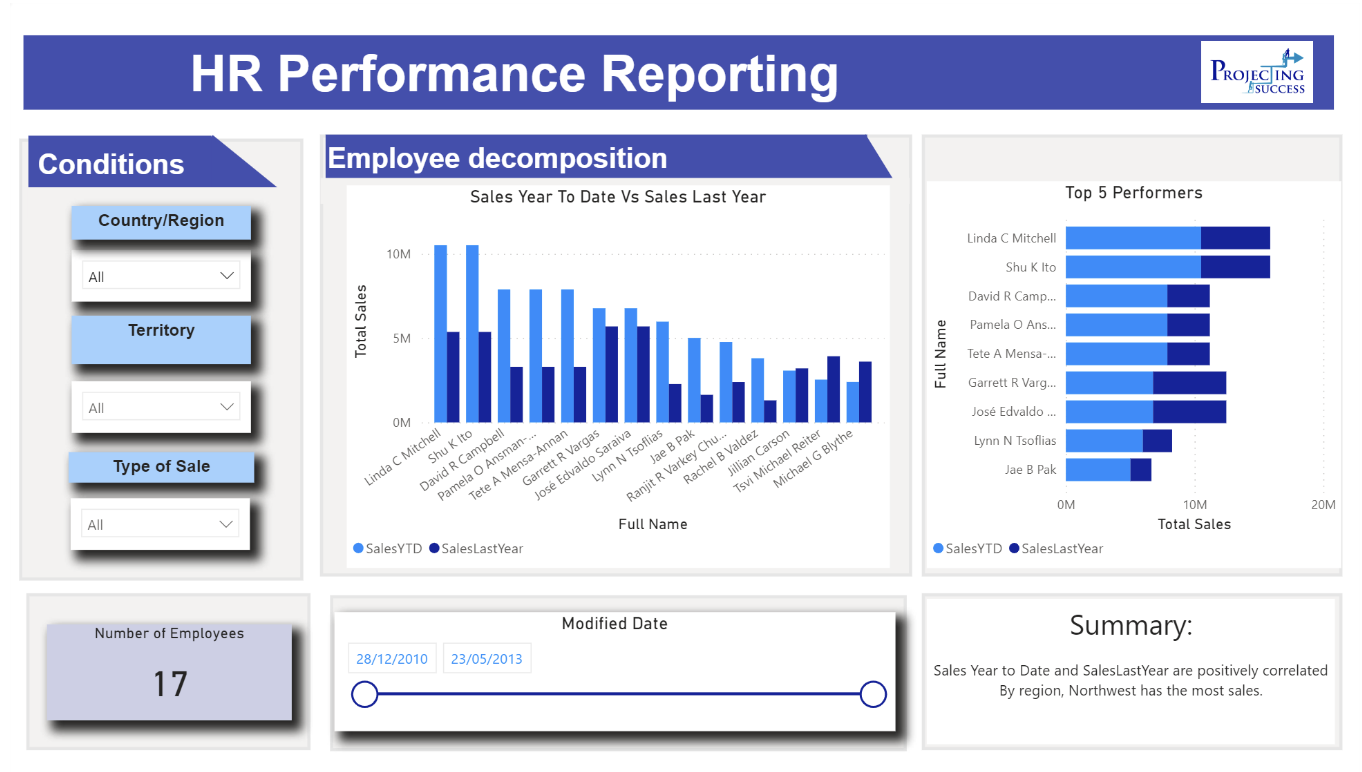

What the dashboard file says about the page in this screenshot:
{"tool":"powerbi","page":{"name":"Sales","canvas":[1280,720],"ordinal":2},"visuals":[{"type":"basicShape","box":[5.4,111.2,275.3,427.7],"z":0},{"type":"basicShape","box":[96,101.3,191.6,77.8],"z":1000},{"type":"basicShape","box":[15.3,112,177,56.4],"z":2000},{"type":"basicShape","box":[12.4,159.7,254.8,33.1],"z":3000},{"type":"slicer","fields":{"Values":["TopSalesPerformers.Country/Region"]},"box":[58.1,221,170.2,48.6],"z":4000},{"type":"basicShape","box":[0,16.9,1267.8,71.9],"z":5000},{"type":"basicShape","box":[287.6,107.4,572.6,427.9],"z":6000},{"type":"textbox","box":[58.1,179.1,170.2,32.1],"z":7000},{"type":"textbox","box":[58.1,283.2,170.2,45.7],"z":8000},{"type":"slicer","fields":{"Values":["TopSalesPerformers.Territory"]},"box":[58.1,345.5,170.2,48.6],"z":9000},{"type":"basicShape","box":[762.6,101.2,97.7,78.1],"z":10000},{"type":"basicShape","box":[293.9,111,523.8,47.9],"z":11000},{"type":"basicShape","box":[286.8,150.9,572.6,28.4],"z":12000},{"type":"textbox","box":[55.2,412.6,176,29.2],"z":13000},{"type":"textbox","box":[165.3,21.4,1084.5,70],"z":14000},{"type":"basicShape","box":[860.5,107.1,406.9,428.3],"z":15000},{"type":"basicShape","box":[297.4,546.9,557.5,150.9],"z":16000},{"type":"slicer","title":"Modified Date","fields":{"Values":["TopSalesPerformers.ModifiedDate"]},"box":[308.1,564.6,531.8,112.7],"z":17000},{"type":"textbox","box":[21.1,119.8,164.4,46.7],"z":18000},{"type":"image","box":[1115.6,17.5,133.3,69.1],"z":19000},{"type":"basicShape","box":[12.4,545.1,275.2,151.8],"z":20000},{"type":"textbox","box":[295.6,113.6,544.2,41.7],"z":21000},{"type":"clusteredColumnChart","title":"Sales Year To Date Vs Sales Last Year","fields":{"Category":["TopSalesPerformers.Merged"],"Y":["TopSalesPerformers.SalesYTD","TopSalesPerformers.SalesLastYear"]},"box":[319.2,159.6,514.7,363.1],"z":22000},{"type":"basicShape","box":[860.5,545.1,406.9,151.8],"z":23000},{"type":"textbox","box":[869.2,551.9,387.4,138.2],"z":24000},{"type":"barChart","title":"Top 5 Performers","fields":{"Y":["TopSalesPerformers.SalesYTD","TopSalesPerformers.SalesLastYear"],"Category":["TopSalesPerformers.Full Name","TopSalesPerformers.Country/Region"]},"box":[869.2,155.7,393.2,367],"z":25000},{"type":"card","title":"Number of Employees","fields":{"Values":["TopSalesPerformers.BusinessEntityID"]},"box":[35,576.5,232.2,90.6],"z":26000},{"type":"slicer","fields":{"Values":["TopSalesPerformers (2).Attribute"]},"box":[57.4,456.5,170.3,48.7],"z":27000}]}

Visuals, with their boxes in screenshot pixels (x1, y1, x2, y2), scaled from the page's 1280x720 canvas onto the 1362x772 screenshot:
basicShape: BBox(6, 119, 299, 578)
basicShape: BBox(102, 109, 306, 192)
basicShape: BBox(16, 120, 205, 181)
basicShape: BBox(13, 171, 284, 207)
slicer - TopSalesPerformers.Country/Region: BBox(62, 237, 243, 289)
basicShape: BBox(0, 18, 1349, 95)
basicShape: BBox(306, 115, 915, 574)
textbox: BBox(62, 192, 243, 226)
textbox: BBox(62, 304, 243, 353)
slicer - TopSalesPerformers.Territory: BBox(62, 370, 243, 423)
basicShape: BBox(811, 109, 915, 192)
basicShape: BBox(313, 119, 870, 170)
basicShape: BBox(305, 162, 914, 192)
textbox: BBox(59, 442, 246, 474)
textbox: BBox(176, 23, 1330, 98)
basicShape: BBox(916, 115, 1349, 574)
basicShape: BBox(316, 586, 910, 748)
"Modified Date" slicer: BBox(328, 605, 894, 726)
textbox: BBox(22, 128, 197, 179)
image: BBox(1187, 19, 1329, 93)
basicShape: BBox(13, 584, 306, 747)
textbox: BBox(315, 122, 894, 167)
"Sales Year To Date Vs Sales Last Year" clusteredColumnChart: BBox(340, 171, 887, 560)
basicShape: BBox(916, 584, 1349, 747)
textbox: BBox(925, 592, 1337, 740)
"Top 5 Performers" barChart: BBox(925, 167, 1343, 560)
"Number of Employees" card: BBox(37, 618, 284, 715)
slicer - TopSalesPerformers (2).Attribute: BBox(61, 489, 242, 542)
